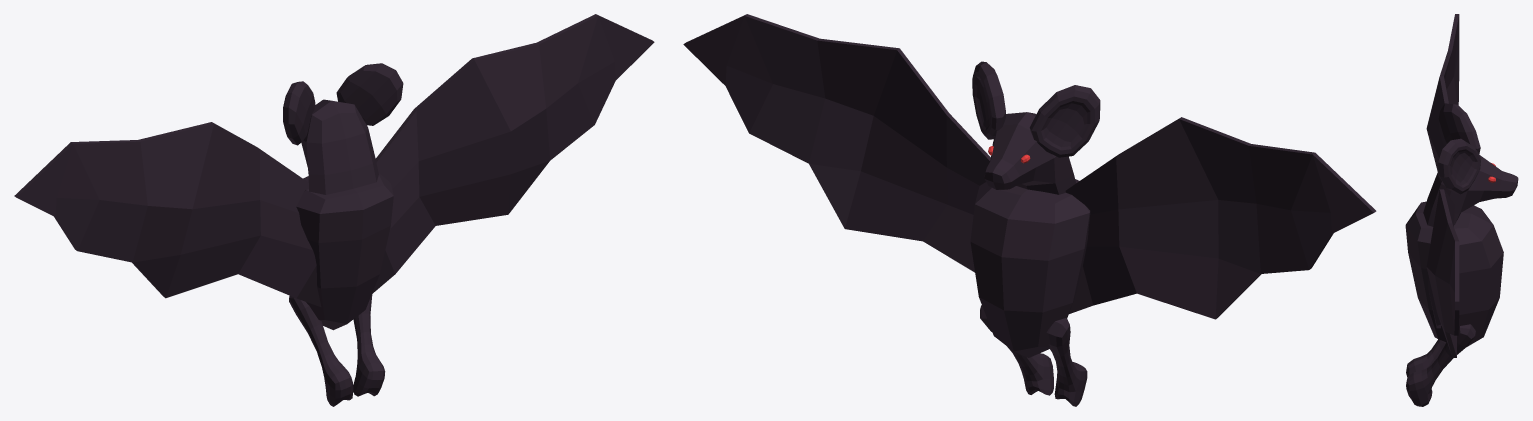
Rendered from bat.fbx.
The picture shows the model from 3 angles, left to right: view 1: azimuth 30°, elevation 25°; view 2: azimuth 150°, elevation 25°; view 3: azimuth 270°, elevation 25°; orthographic projection. The views are drawn at different scales.
Parts seen in each view (by area): view 1: Plane; view 2: Plane; view 3: Plane.
Boxes of the visible parts, <box> form: Plane: <box>14,14,654,406</box>; Plane: <box>683,14,1376,406</box>; Plane: <box>1405,14,1518,406</box>.
Bounding box in the file's own units: 316 × 148 × 54.52.
